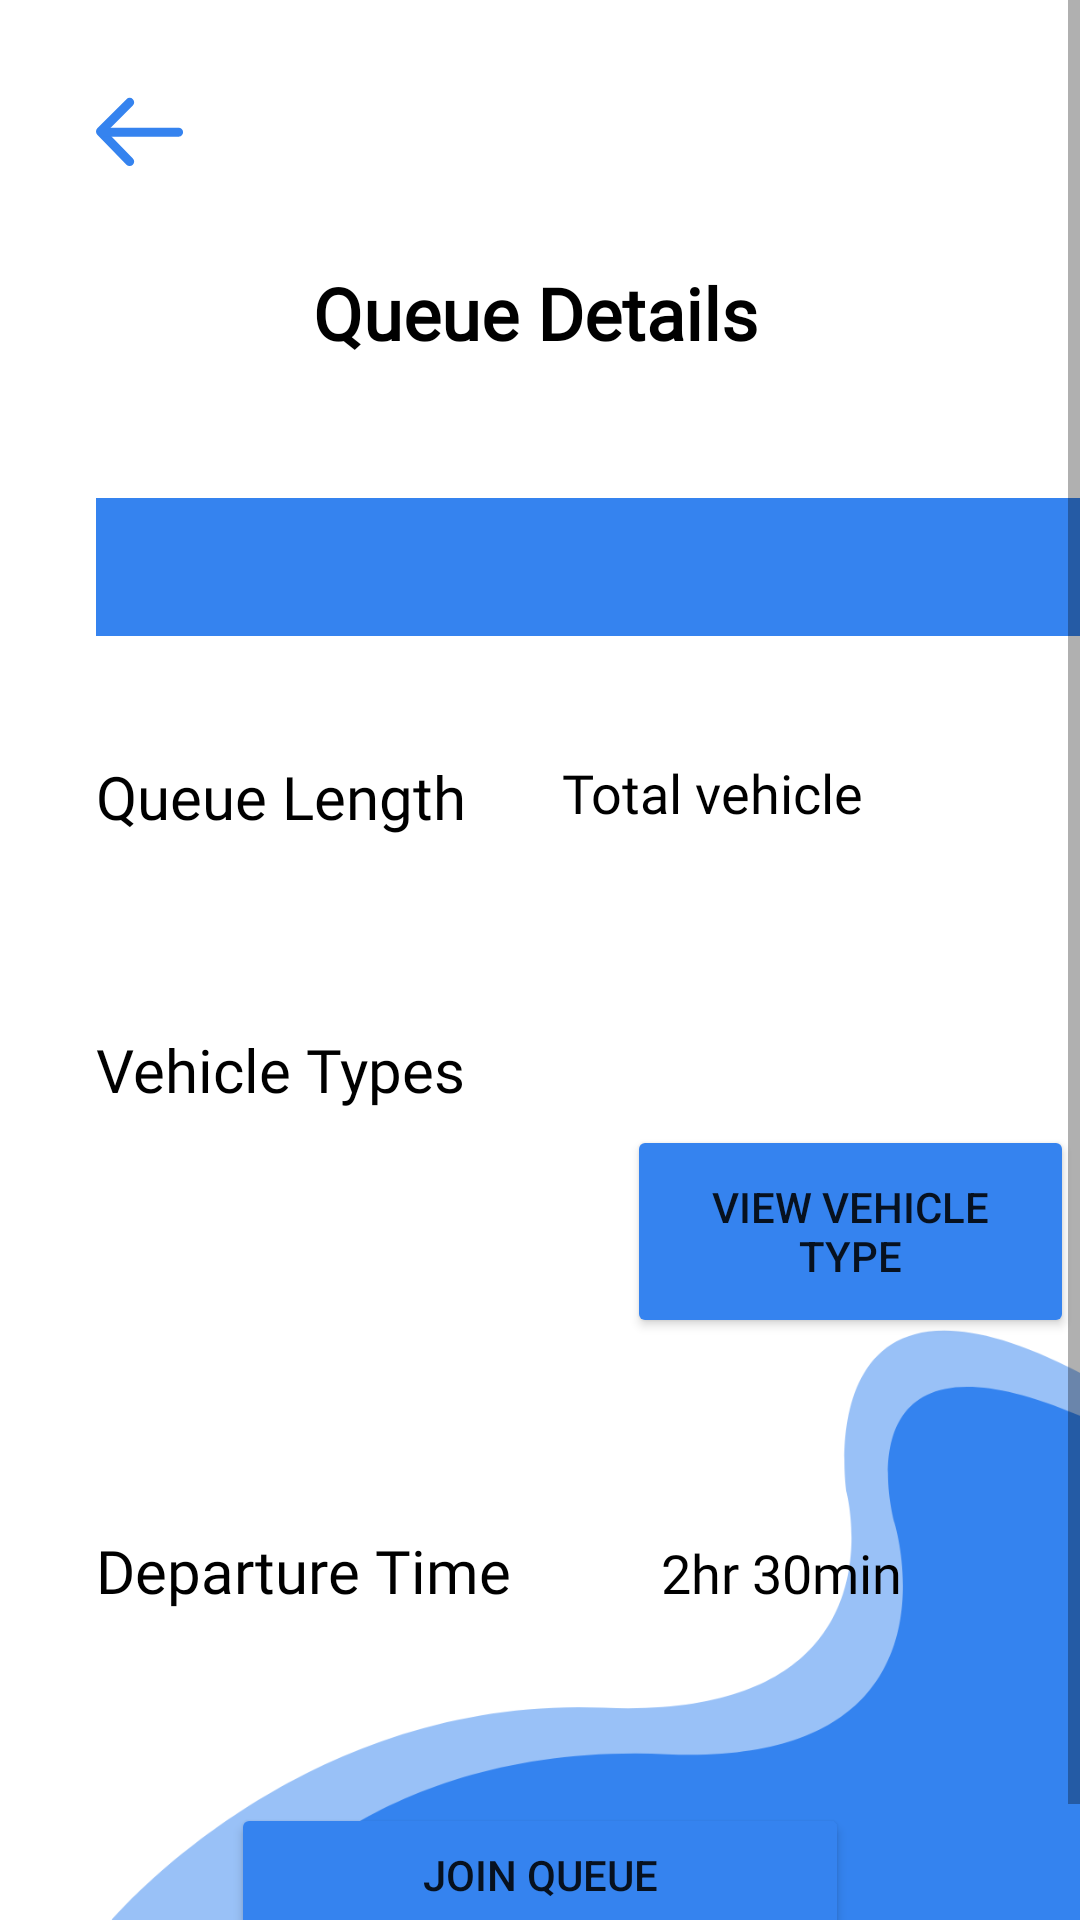

Screen size 1080×1920. Icon name, then its box in pixels as (x1, y1, x2, y2):
back: (96, 97, 183, 166)
